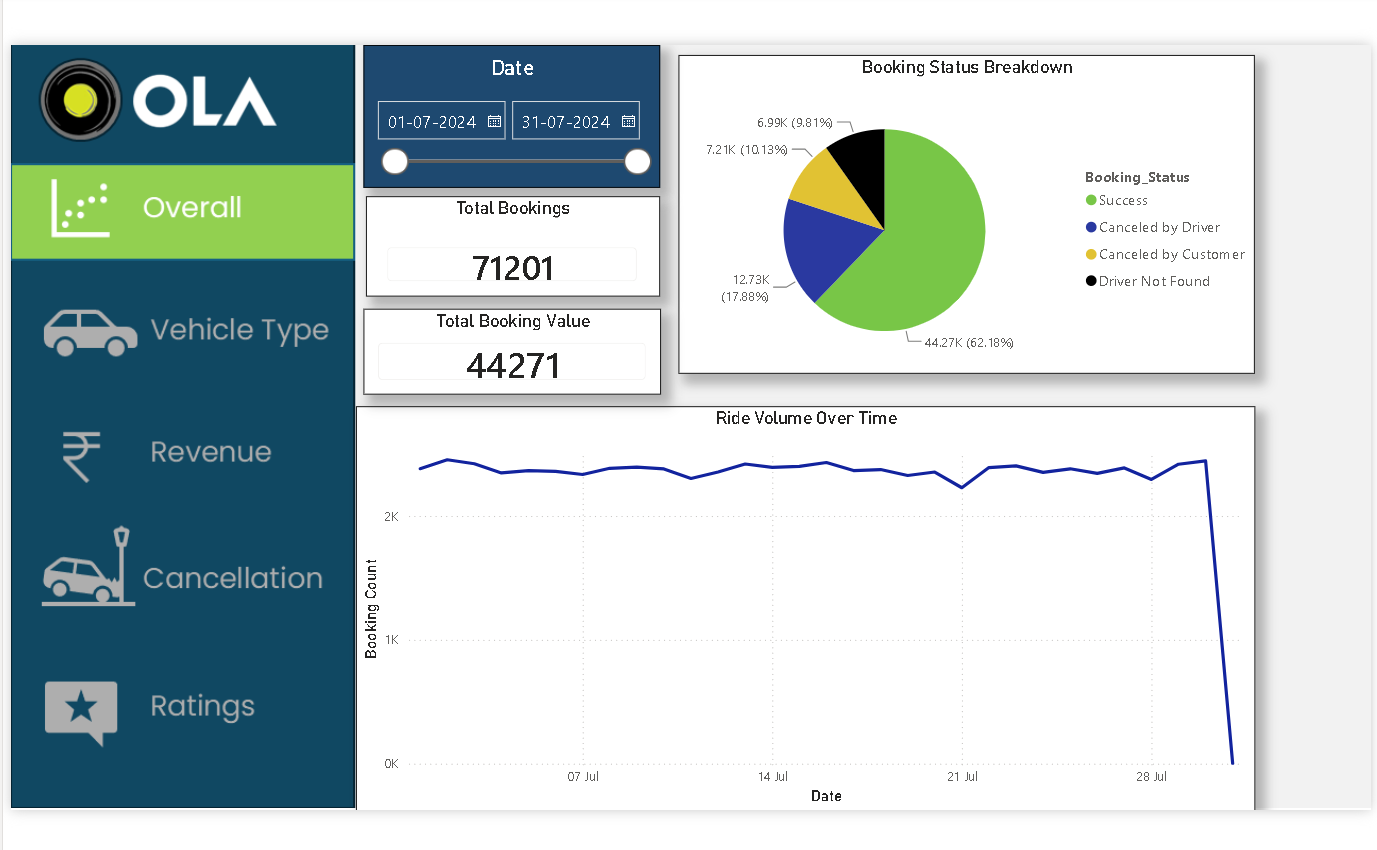

What the dashboard file says about the page in this screenshot:
{"tool":"powerbi","page":{"name":"Overall","canvas":[1280,720],"ordinal":0},"visuals":[{"type":"actionButton","box":[0,195.3,324.3,107],"z":0},{"type":"actionButton","box":[0,329.4,324.3,107],"z":1000},{"type":"actionButton","box":[0,453.1,324.3,107],"z":2000},{"type":"actionButton","box":[0,580.9,324.3,107],"z":3000},{"type":"actionButton","box":[0,105,324.3,107],"z":4000},{"type":"lineChart","title":"Ride Volume Over Time","fields":{"Y":["CountNonNull(bookings_cleaned (2).Booking_ID)"],"Category":["bookings_cleaned (2).Date"]},"box":[324.4,339.5,846.5,381.4],"z":5000},{"type":"pieChart","title":"Booking Status Breakdown","fields":{"Category":["bookings_cleaned (2).Booking_Status"],"Y":["CountNonNull(bookings_cleaned (2).Booking_Status)"]},"box":[628.2,9.4,542.6,300],"z":6000},{"type":"slicer","title":"Date","fields":{"Values":["bookings_cleaned.Date"]},"box":[332.1,0,279.5,134.6],"z":7000},{"type":"cardVisual","title":"Total Bookings","fields":{"Data":["CountNonNull(bookings_cleaned.Booking_ID)"]},"box":[334.1,142.4,276.5,94.1],"z":8000},{"type":"cardVisual","title":"Total Booking Value","fields":{"Data":["CountNonNull(bookings_cleaned.Booking_ID)"]},"box":[331.8,248.2,280,81.2],"z":9000}]}

Visuals, with their boxes on the page's 1280x720 design canvas (x1, y1, x2, y2). These are canvas units, not pixel positions in the 1377x850 screenshot, which may show the page scaled, cropped or inside an application window:
actionButton: BBox(0, 195, 324, 302)
actionButton: BBox(0, 329, 324, 436)
actionButton: BBox(0, 453, 324, 560)
actionButton: BBox(0, 581, 324, 688)
actionButton: BBox(0, 105, 324, 212)
"Ride Volume Over Time" lineChart: BBox(324, 340, 1171, 721)
"Booking Status Breakdown" pieChart: BBox(628, 9, 1171, 309)
"Date" slicer: BBox(332, 0, 612, 135)
"Total Bookings" cardVisual: BBox(334, 142, 611, 236)
"Total Booking Value" cardVisual: BBox(332, 248, 612, 329)
